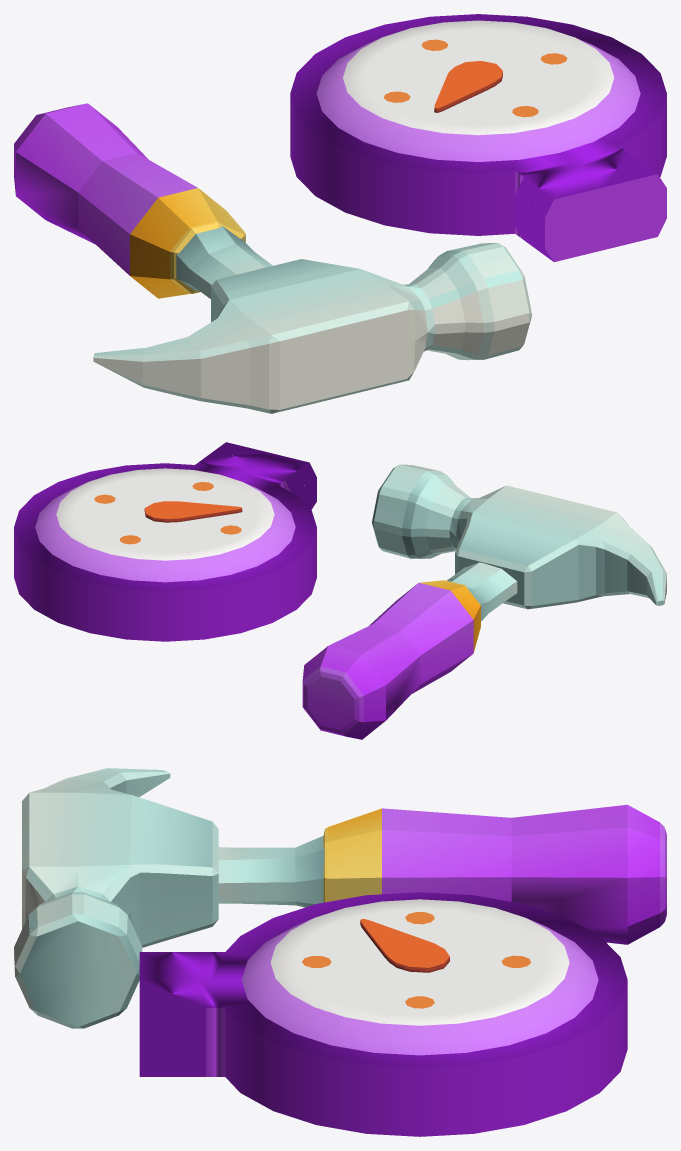
File: Booster.fbx
3 views of the same model, one above another, from view 1: azimuth 30°, elevation 25°; view 2: azimuth 150°, elevation 25°; view 3: azimuth 270°, elevation 25° (orthographic). The views are drawn at different scales.
Visible parts, largest first — view 1: Clock, Hammer; view 2: Clock, Hammer; view 3: Clock, Hammer.
Boxes of the visible parts, box(x1,y1,x2,y2) form: Clock: box(290, 14, 666, 261); Hammer: box(14, 103, 531, 413); Clock: box(14, 442, 316, 641); Hammer: box(302, 464, 666, 739); Clock: box(139, 892, 627, 1136); Hammer: box(14, 768, 666, 1028).
Bounding box in the file's own units: 84.3 × 16.25 × 64.96.
Materials: 1 (1 with a texture image).
